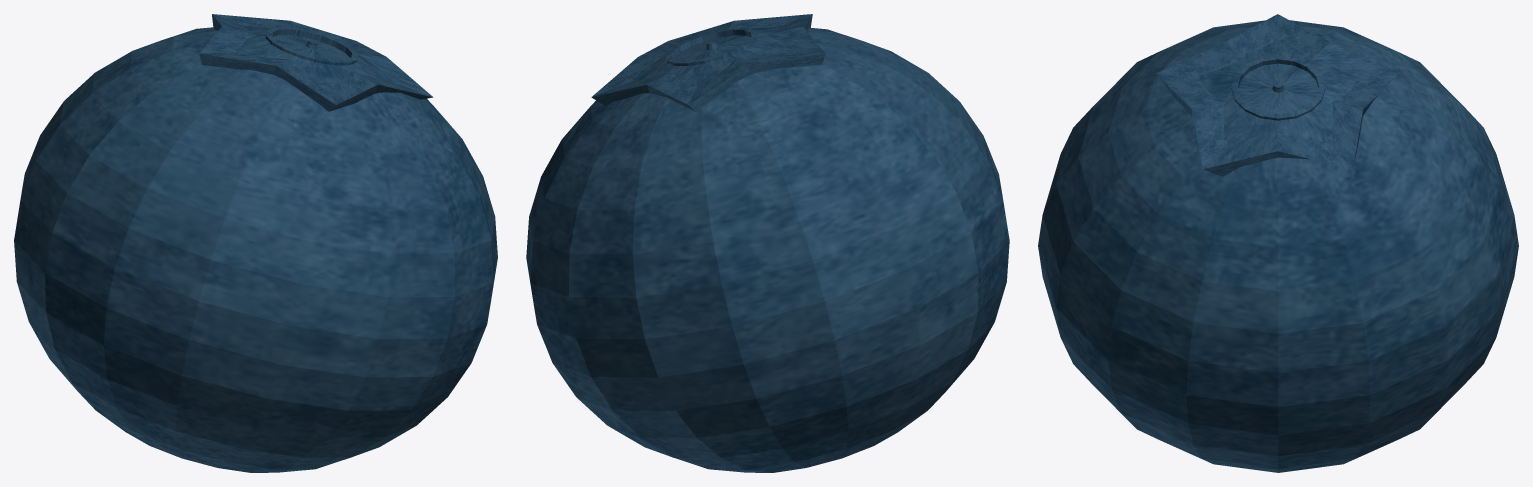
File: Blueberry.fbx
The picture shows the model from 3 angles, left to right: view 1: azimuth 30°, elevation 25°; view 2: azimuth 150°, elevation 25°; view 3: azimuth 270°, elevation 25°; orthographic projection. The views are drawn at different scales.
Parts seen in each view (by area): view 1: Blueberry; view 2: Blueberry; view 3: Blueberry.
Boxes of the visible parts, x1,y1,x2,y2 form: Blueberry: (14, 14, 497, 472); Blueberry: (526, 14, 1009, 472); Blueberry: (1038, 14, 1518, 472).
Bounding box in the file's own units: 74.03 × 69.01 × 74.88.
